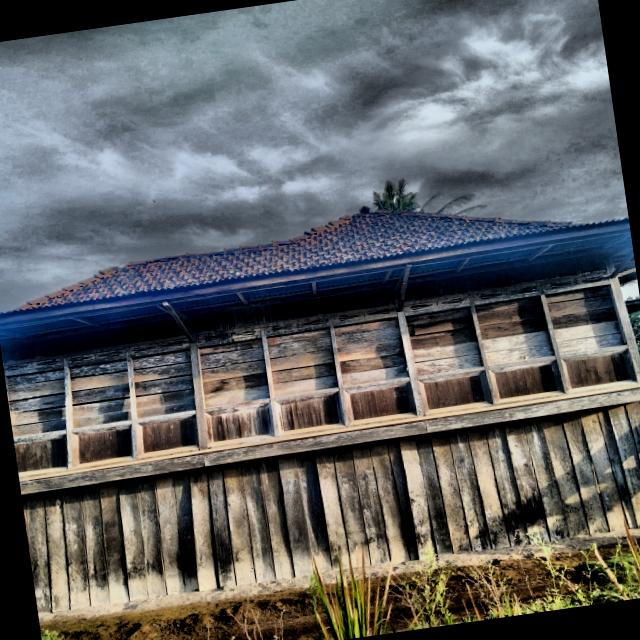ornamen: (488, 360, 565, 404), (562, 348, 638, 392), (417, 370, 493, 414), (343, 381, 416, 425), (275, 392, 345, 436), (204, 402, 272, 447), (136, 414, 199, 459), (70, 424, 134, 468), (14, 434, 68, 476)
roof: (15, 207, 585, 310)
wall: (21, 400, 640, 614), (404, 254, 639, 415), (193, 286, 417, 449), (3, 319, 200, 478)
window: (544, 284, 627, 355), (475, 295, 555, 366), (407, 306, 484, 376), (334, 317, 409, 386), (266, 328, 339, 398), (197, 338, 270, 408), (131, 349, 195, 419), (69, 358, 132, 428), (8, 369, 66, 438)
